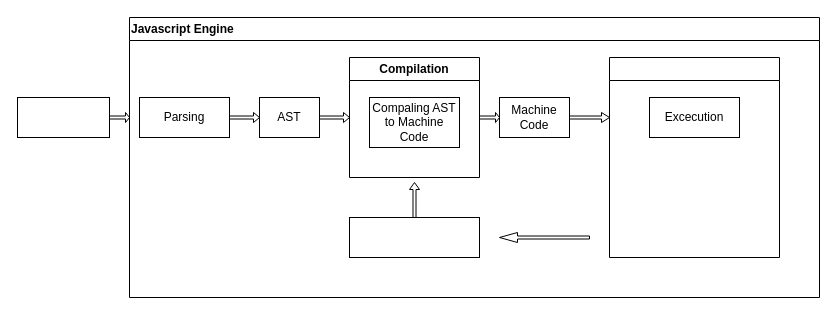
This 837x315 diagram has some shape labels left out. Each missing label, with the centre of its shape:
Call Stack: pixel 694 157
Optimisation: pixel 414 237
Raw javascript code: pixel 63 117
